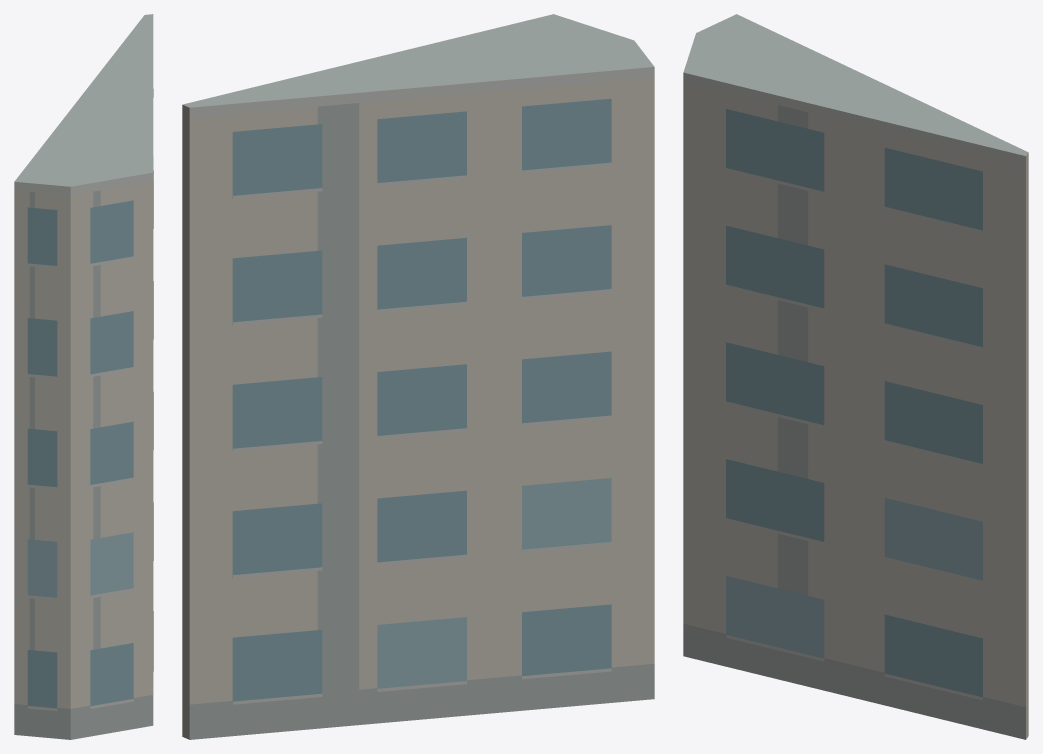
The model's file is survey-upis-32783490.glb.
The picture shows the model from 3 angles, left to right: view 1: azimuth 30°, elevation 25°; view 2: azimuth 150°, elevation 25°; view 3: azimuth 270°, elevation 25°; orthographic projection. The views are drawn at different scales.
Visible parts, largest first — view 1: survey-upis-32783490.tmp; view 2: survey-upis-32783490.tmp; view 3: survey-upis-32783490.tmp.
Part boxes in pixels (x1=…): survey-upis-32783490.tmp: x1=14, y1=14, x2=153, y2=739; survey-upis-32783490.tmp: x1=182, y1=14, x2=654, y2=739; survey-upis-32783490.tmp: x1=683, y1=14, x2=1028, y2=739.
Bounding box in the file's own units: 7.98 × 15.25 × 8.19.
